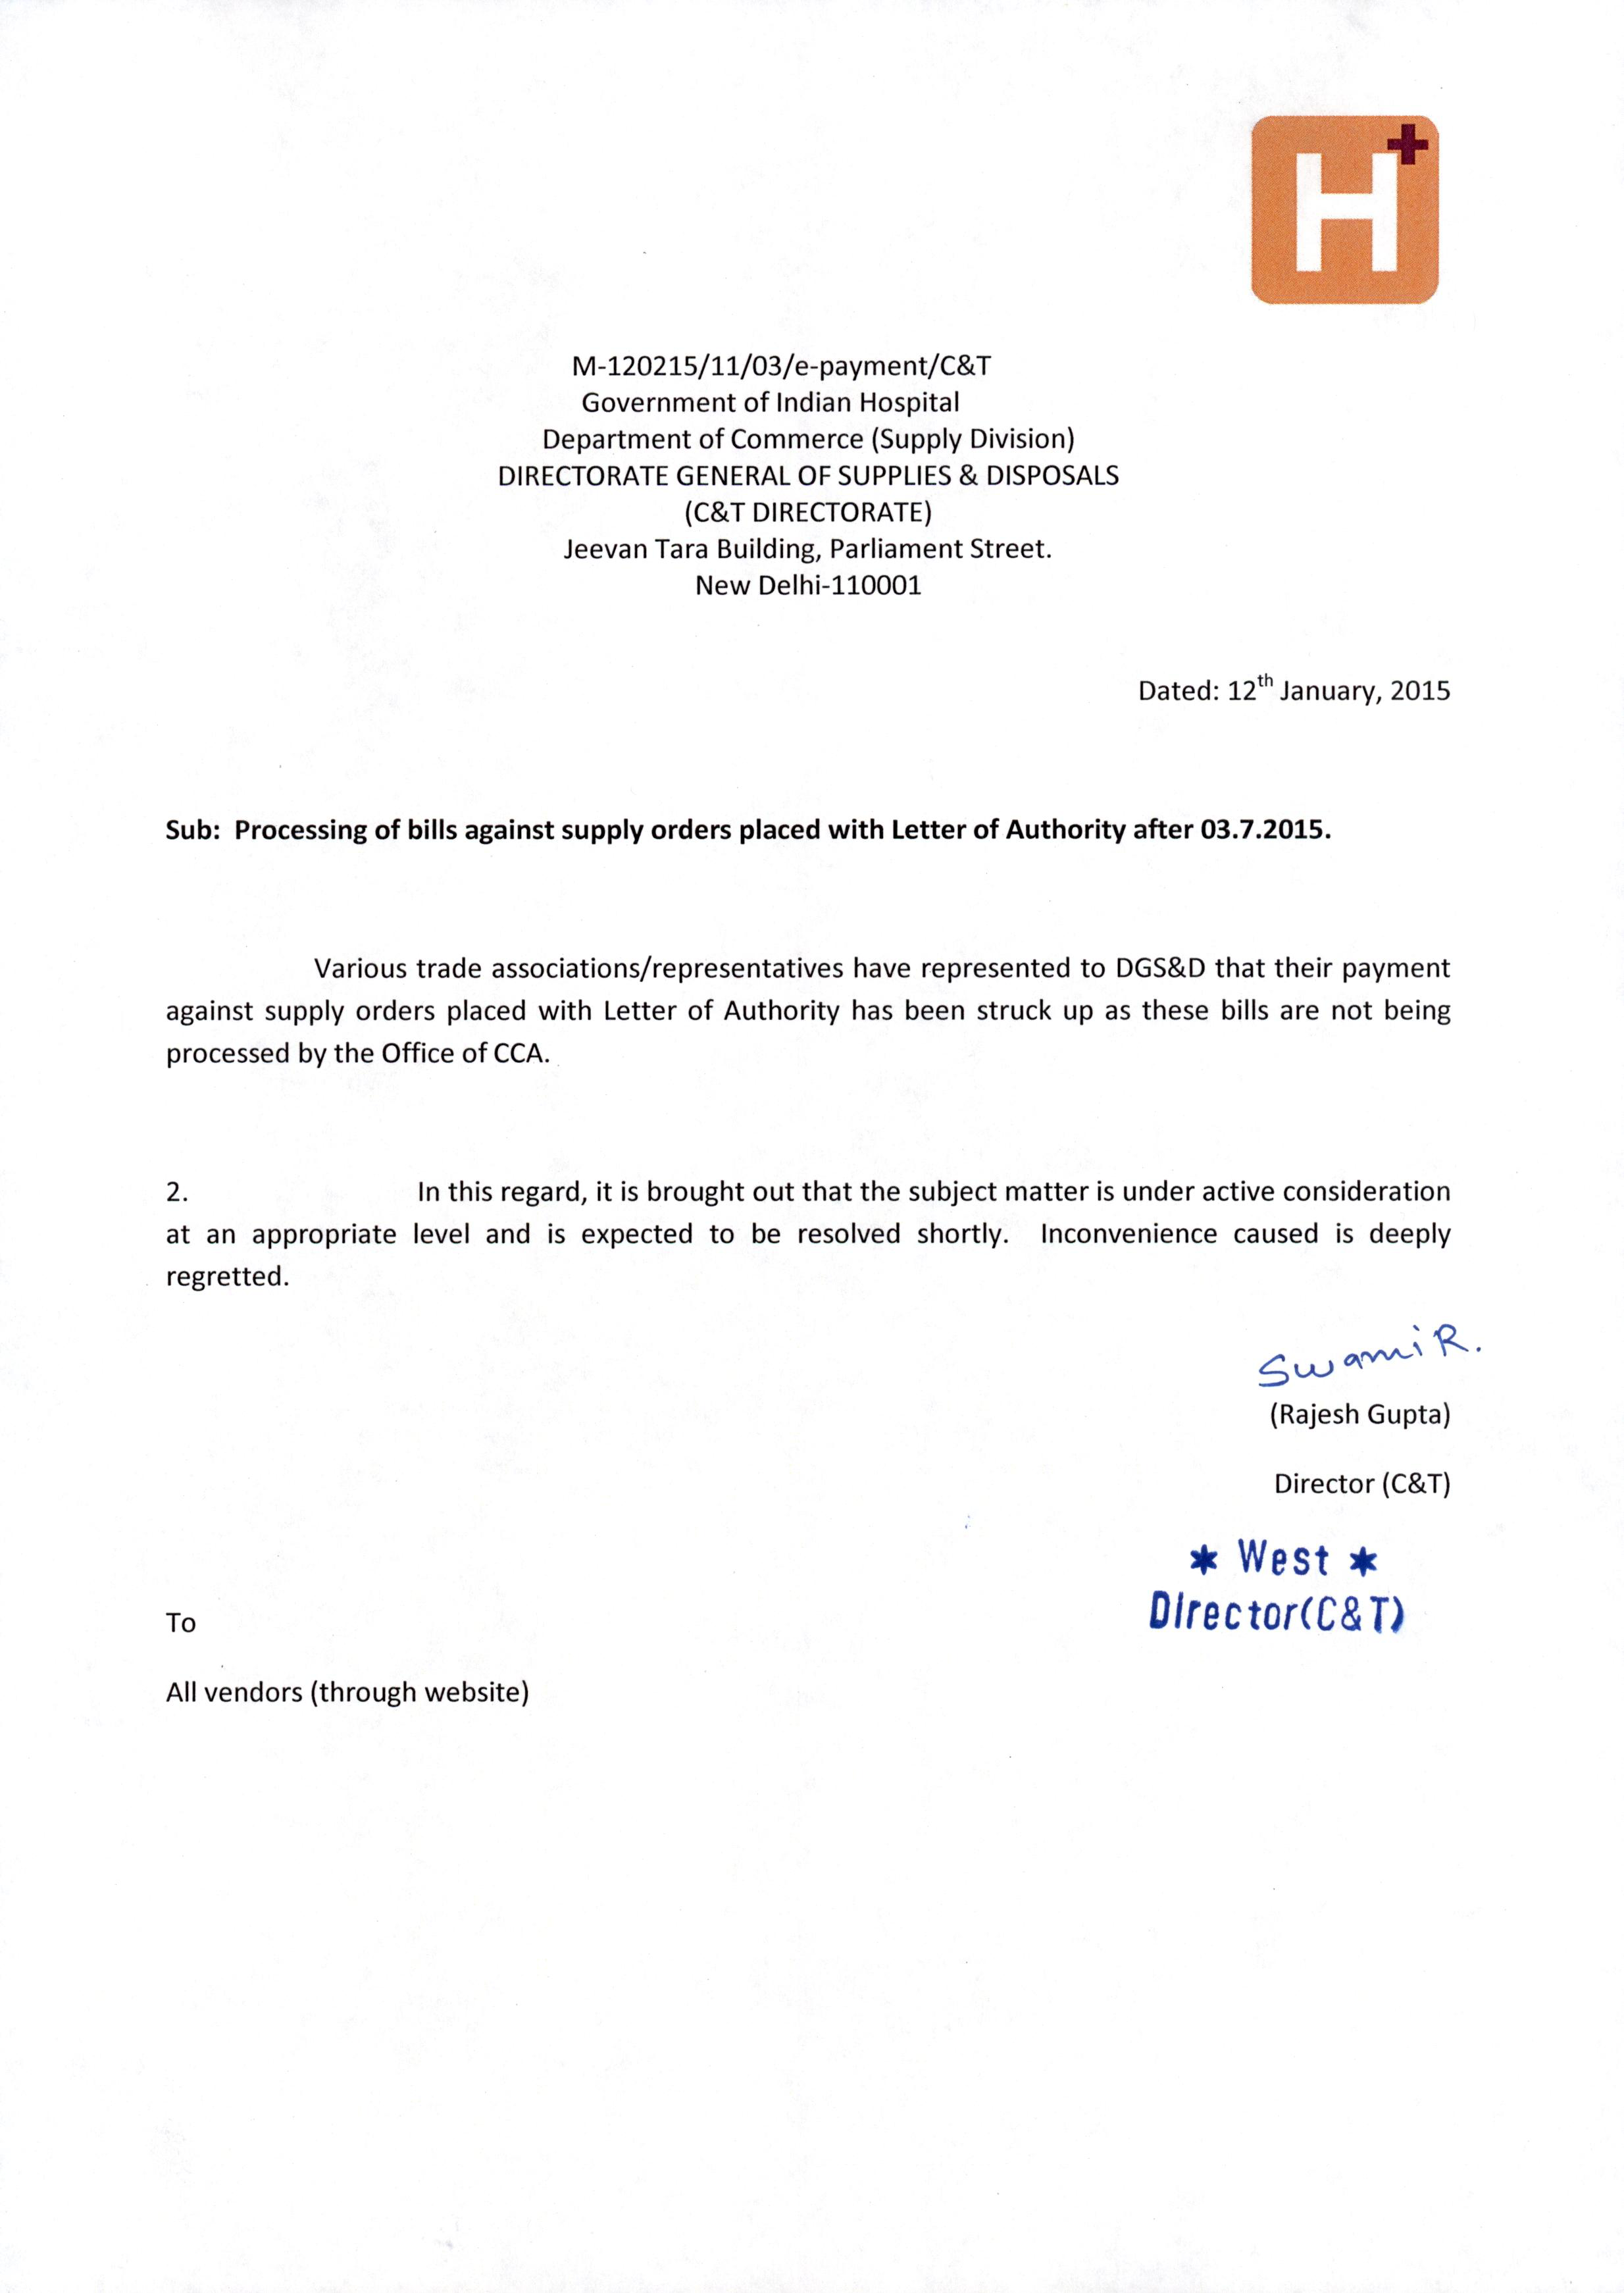Signature: (1250, 1313, 1489, 1395)
